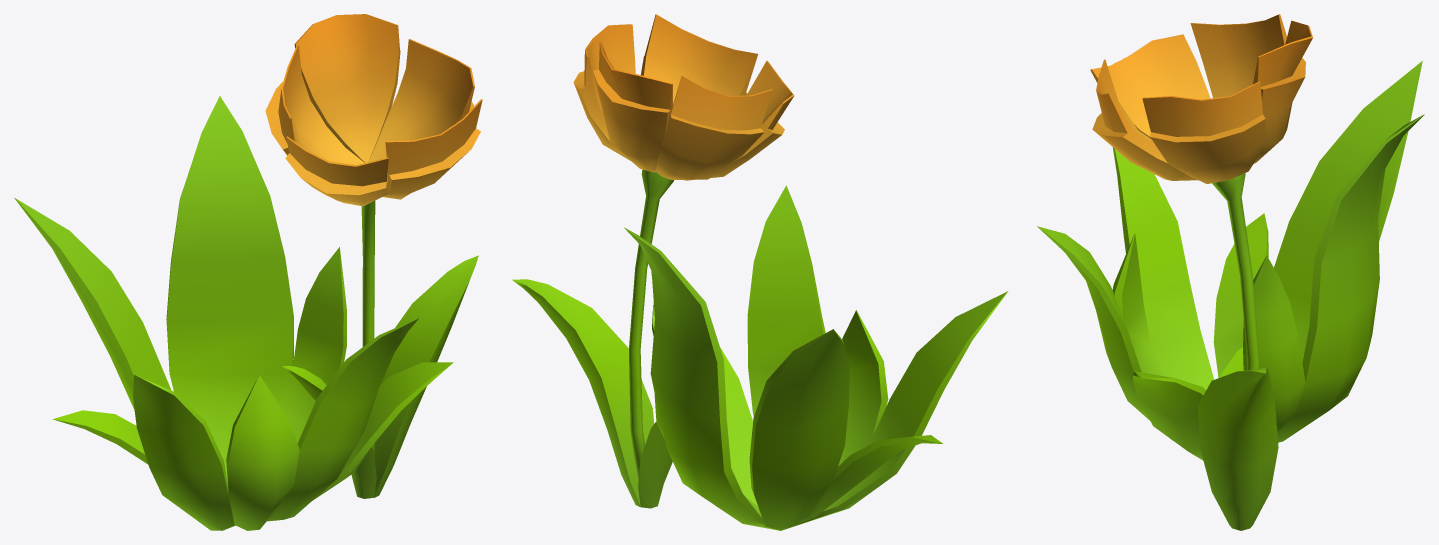
The model's file is Grass_02.fbx.
The picture shows the model from 3 angles, left to right: view 1: azimuth 30°, elevation 25°; view 2: azimuth 150°, elevation 25°; view 3: azimuth 270°, elevation 25°; orthographic projection. The views are drawn at different scales.
Parts seen in each view (by area): view 1: Grass_02; view 2: Grass_02; view 3: Grass_02.
Part boxes in pixels (x1,y1,x2,y2): Grass_02: (14,14,482,530); Grass_02: (512,14,1008,530); Grass_02: (1037,14,1424,530).
Bounding box in the file's own units: 107 × 110 × 78.19.
